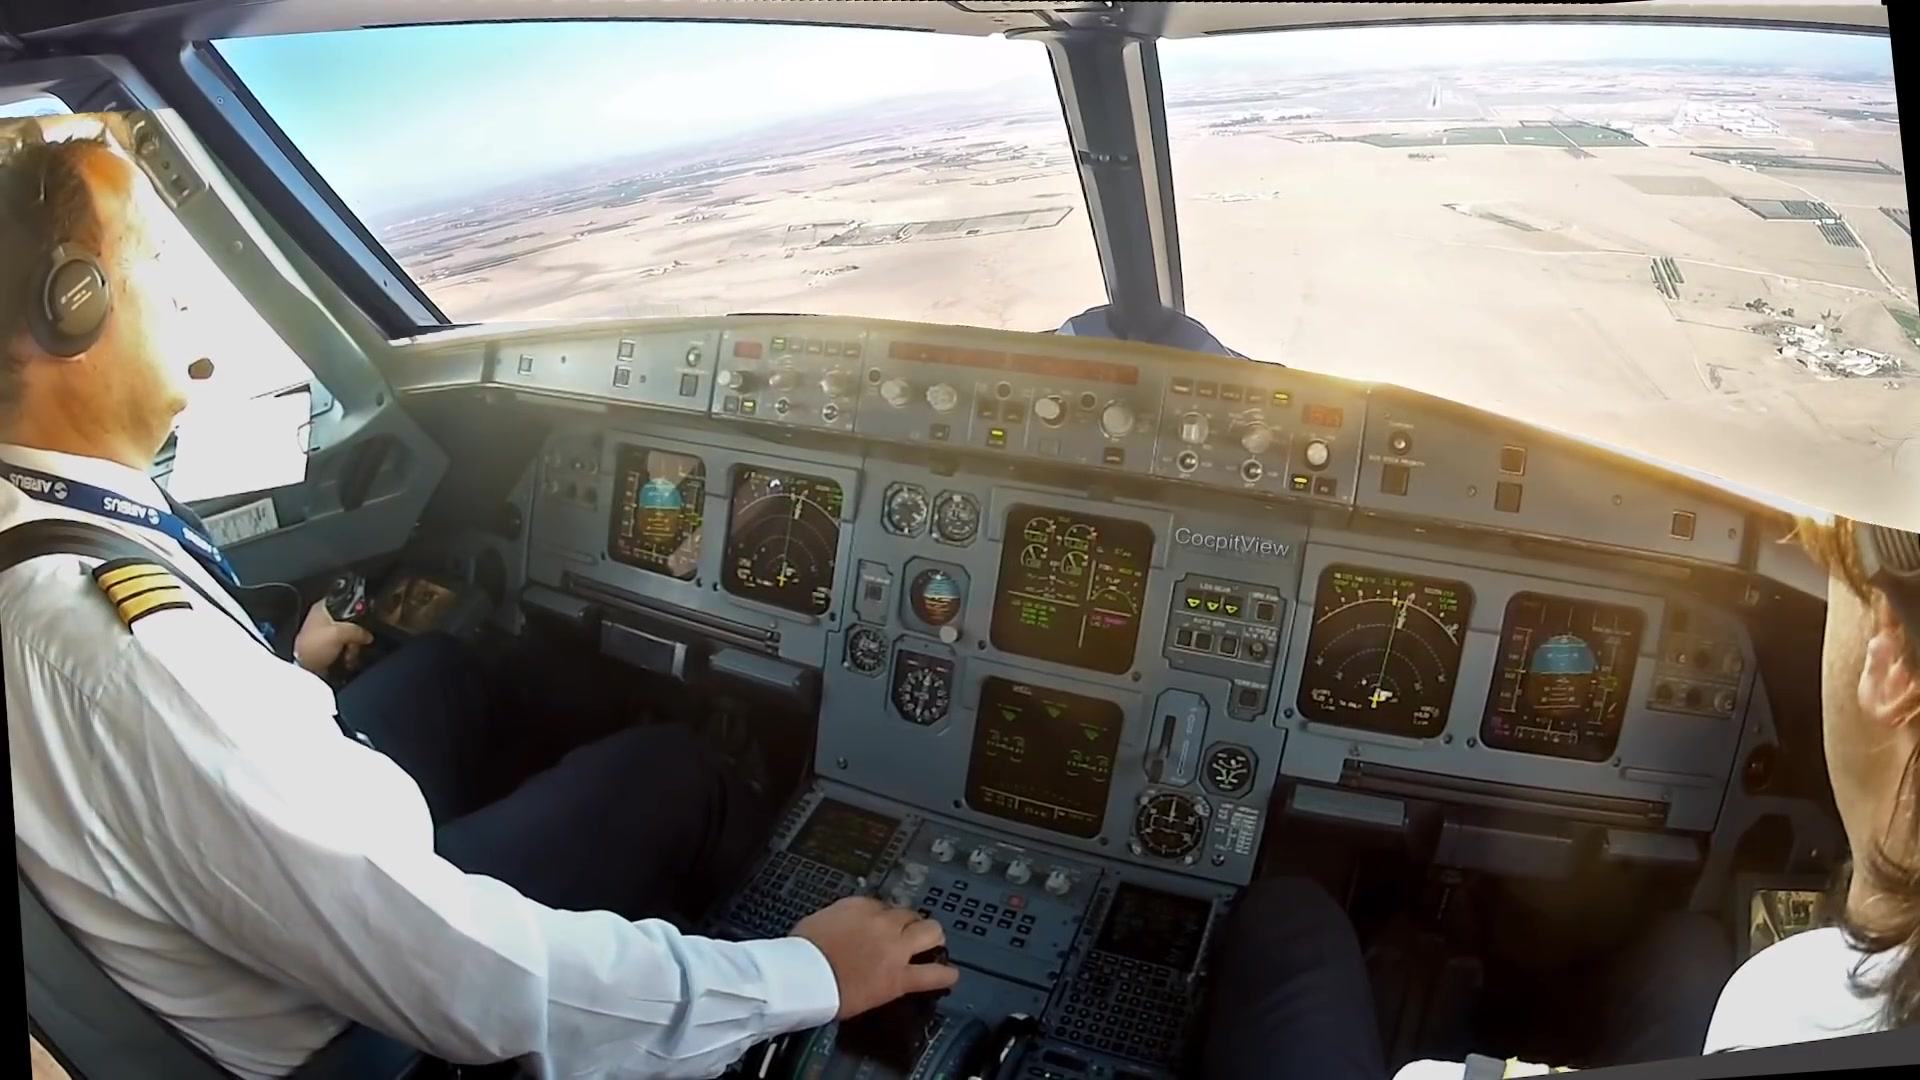runway: (1424, 82, 1443, 113)
